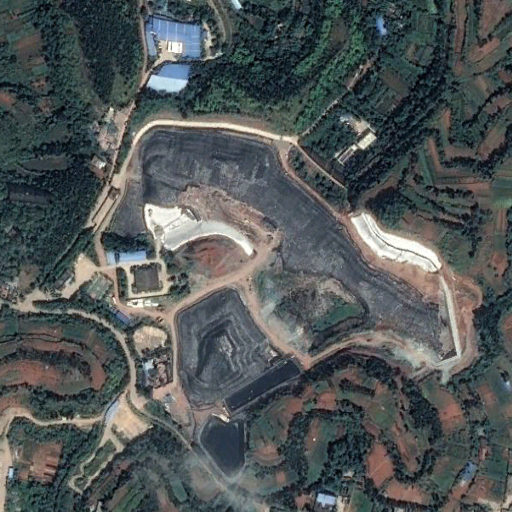lf: (103, 122, 458, 408)
